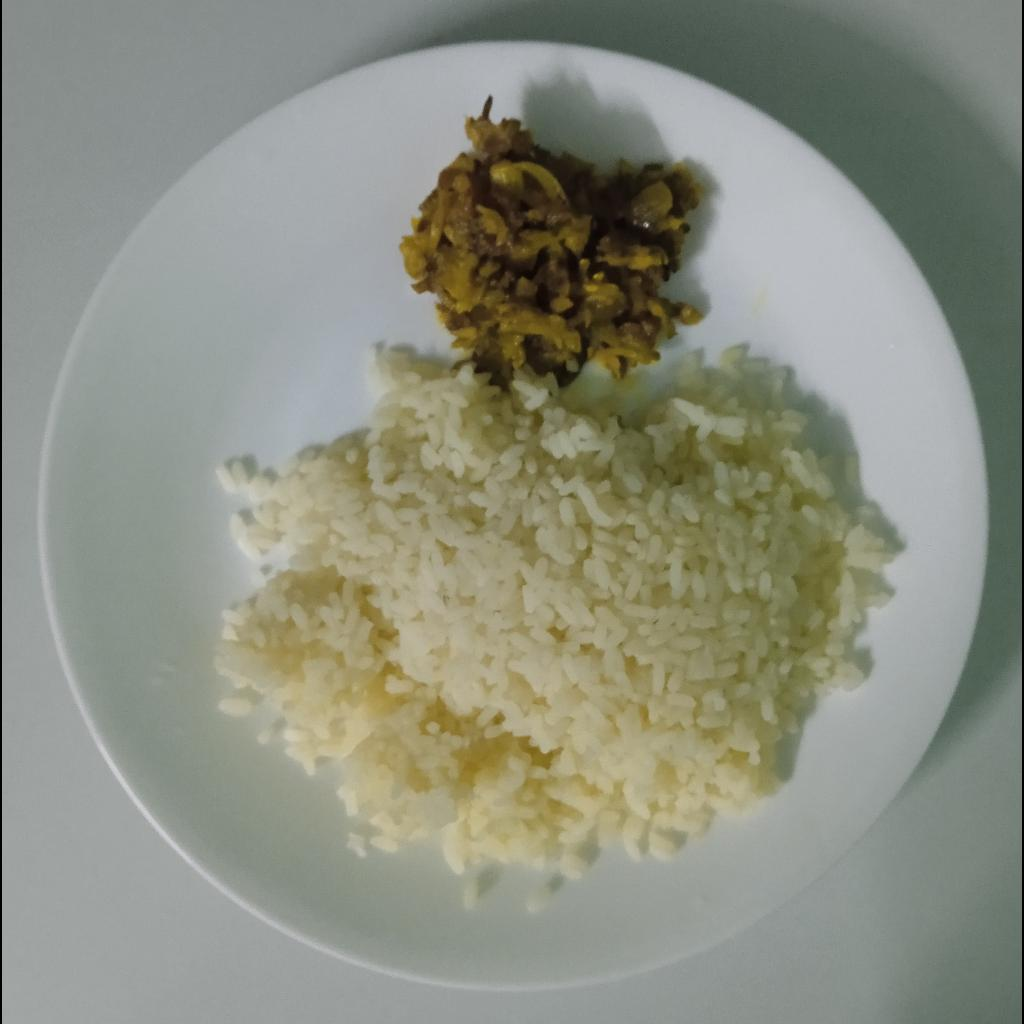dundol: (402, 112, 707, 389)
rice: (212, 345, 896, 905)
